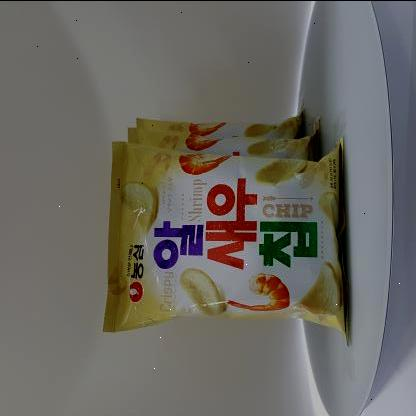Others: (89, 105, 371, 349)
